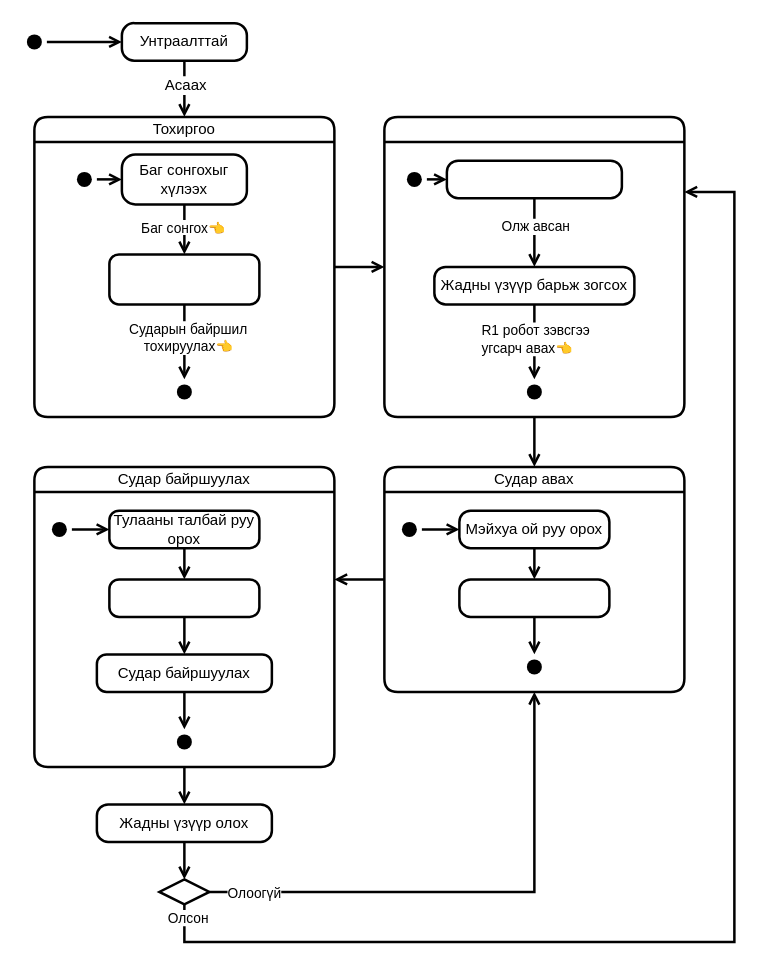
Image size: 766x974. Some labels were removed from this diagram. Each missing label, with the box of its shape:
Жадны үзүүр олж авах: (445, 159, 622, 199)
Зэвсэг угсрах: (382, 115, 685, 418)
Судар олж авах: (458, 578, 610, 618)
Сударын байршил тохируулахыг хүлээх: (108, 252, 260, 305)
Хоосон нүд олох: (108, 578, 260, 618)
